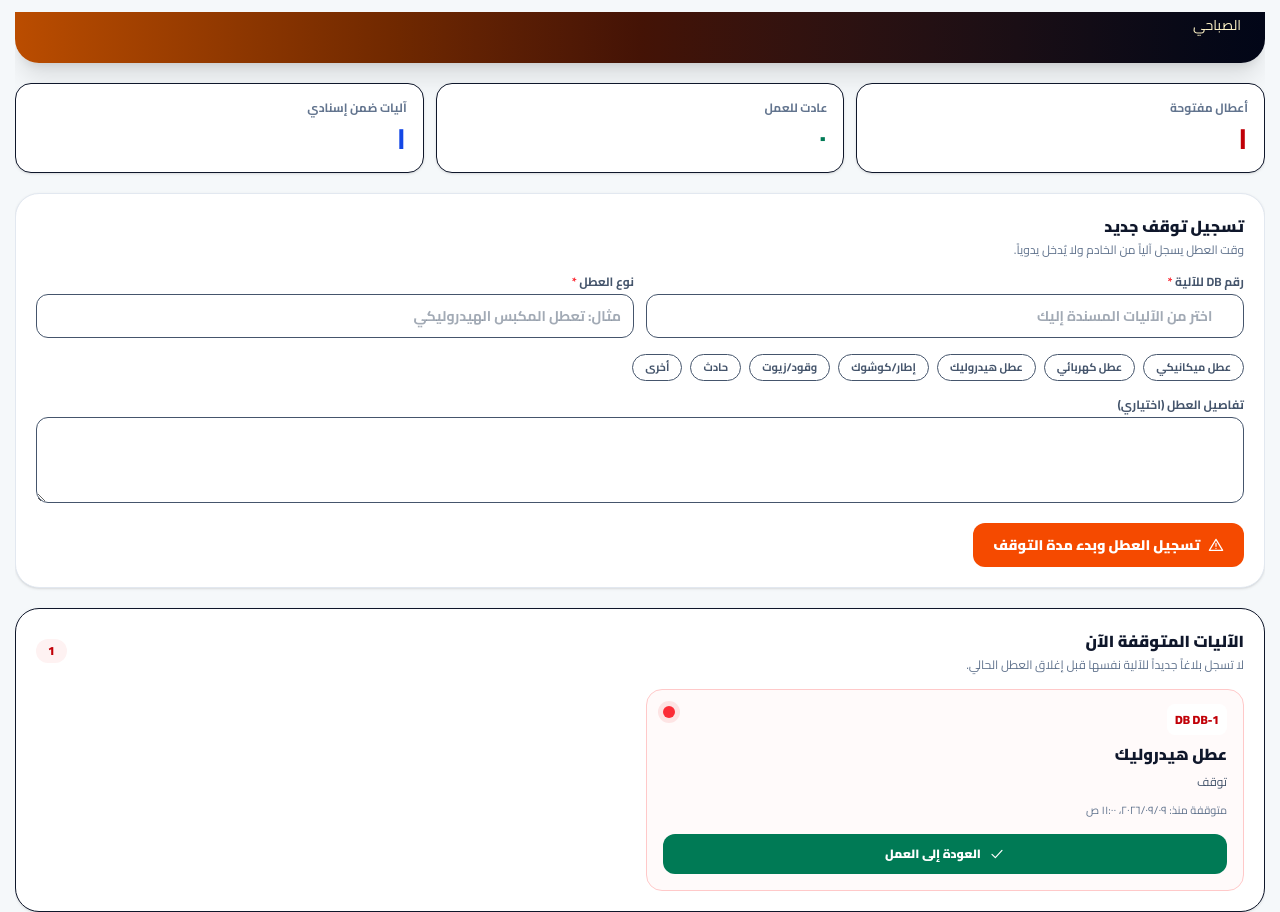
Test: واجهة دورة عطل الآلية › يرفض النموذج الناقص في الواجهة
(page scrolled)
Click the button with test id "bd-submit": {"x": 1109, "y": 544} [973,522,1244,566]
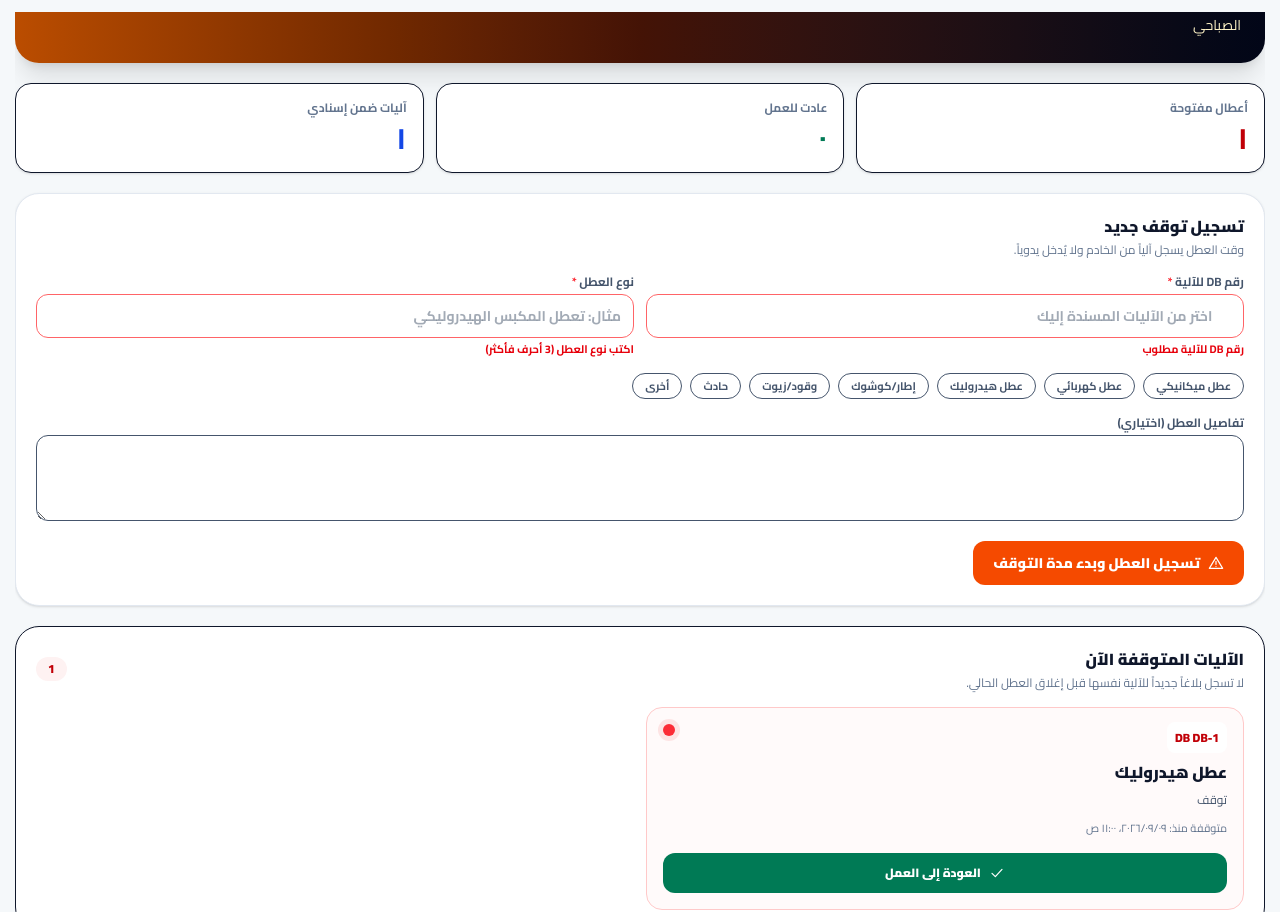
Expected: the text "رقم DB للآلية مطلوب" is shown, [1142,339,1244,359]
